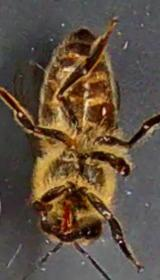varroa_mite: (92, 96, 116, 119)
